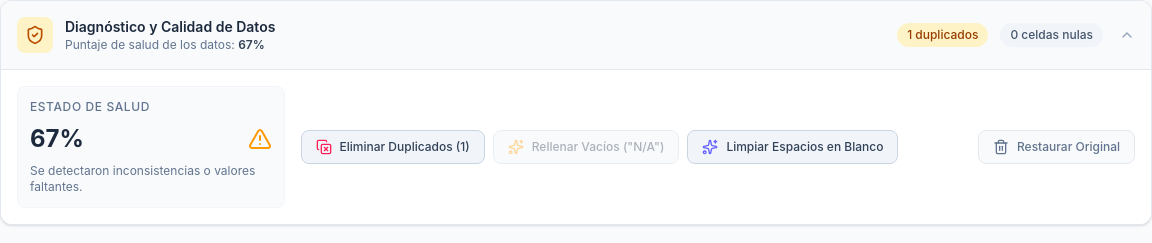
Test case: Componente DataQuality › debe ejecutar la limpieza de duplicados al hacer clic en 'Eliminar Duplicados'
Click the button "Eliminar Duplicados (1)": (393, 147) [300,130,485,164]
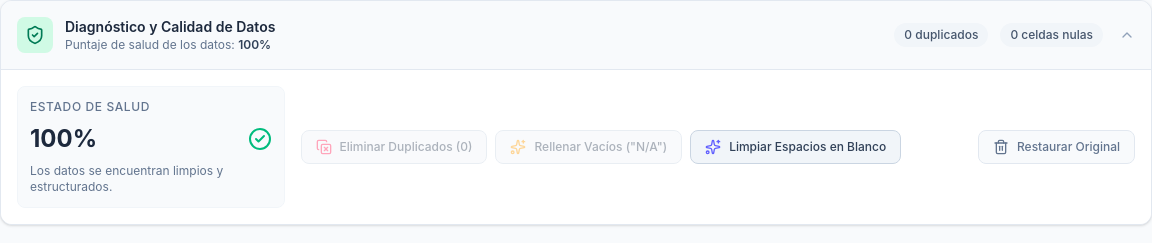
Now the text "0 duplicados" is shown, box [894,23,988,47]
Now the button "Eliminar Duplicados (0)" is disabled, box [300,130,488,164]
